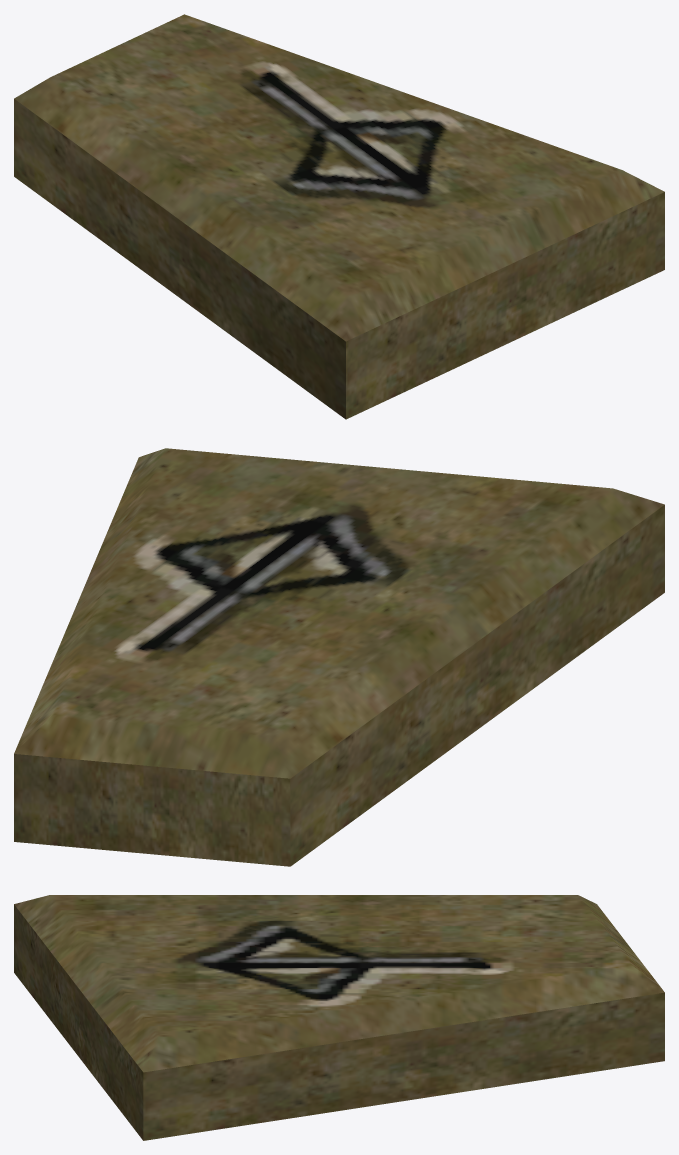
Rendered from INST_SM_RUNEB.fbx.
3 views of the same model, one above another, from view 1: azimuth 30°, elevation 25°; view 2: azimuth 150°, elevation 25°; view 3: azimuth 270°, elevation 25° (orthographic). The views are drawn at different scales.
Parts seen in each view (by area): view 1: INST_SM_RUNEB; view 2: INST_SM_RUNEB; view 3: INST_SM_RUNEB.
Part boxes in pixels (x1,y1,x2,y2): INST_SM_RUNEB: (14,14,664,419); INST_SM_RUNEB: (14,448,664,866); INST_SM_RUNEB: (14,895,664,1140).
Bounding box in the file's own units: 5640 × 1386 × 9220.
Materials: 1 (1 with a texture image).
